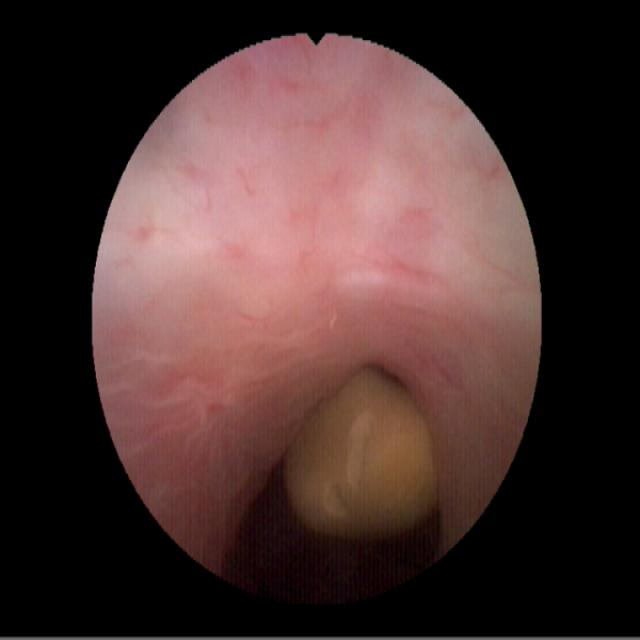stone: (287, 366, 441, 543)
tissue: (98, 42, 528, 582)
